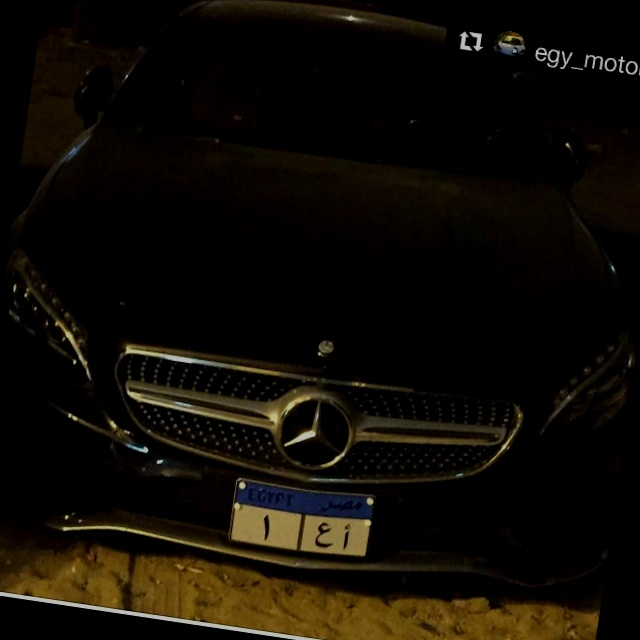License Plate: (222, 471, 381, 566)
